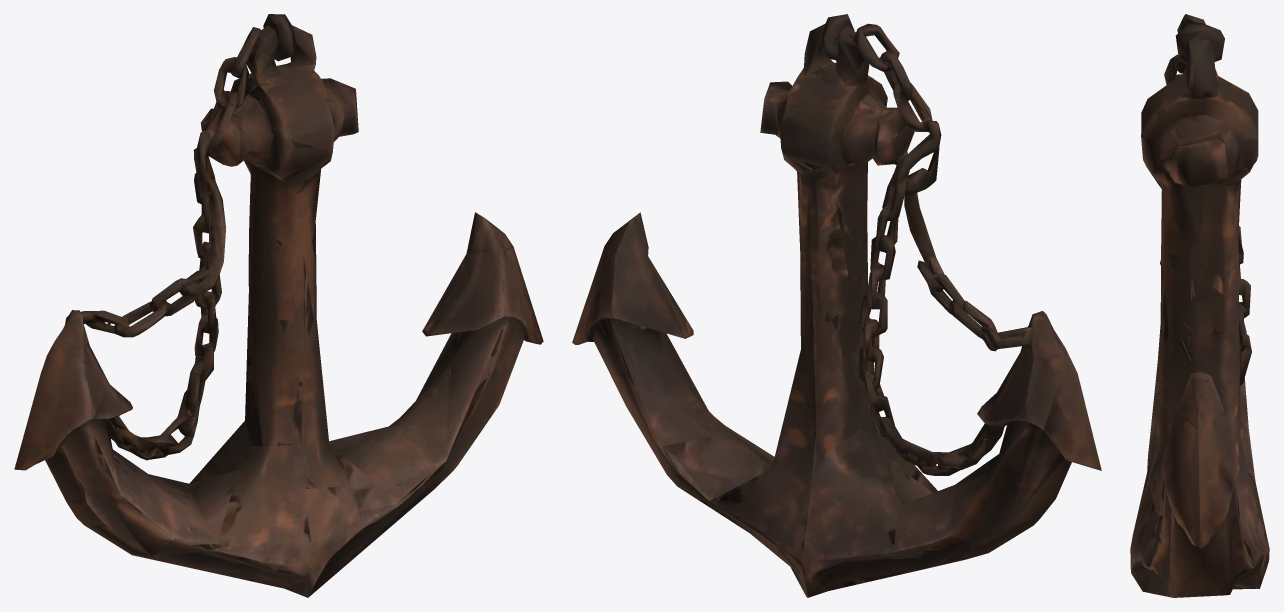
The model's file is anchor.glb.
3 renders of one model, left to right at view 1: azimuth 30°, elevation 25°; view 2: azimuth 150°, elevation 25°; view 3: azimuth 270°, elevation 25°, orthographic.
Size of the model in its own units: 1.85 by 1.87 by 0.4173.
1 material, 1 textured.
